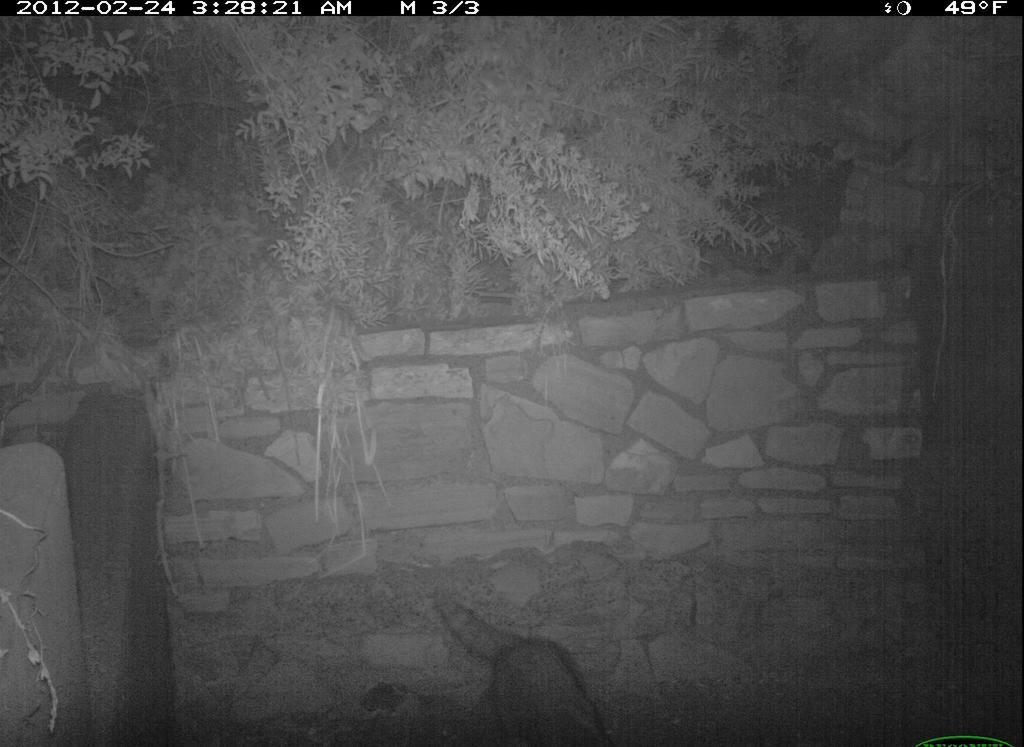raccoon: (429, 587, 619, 747)
